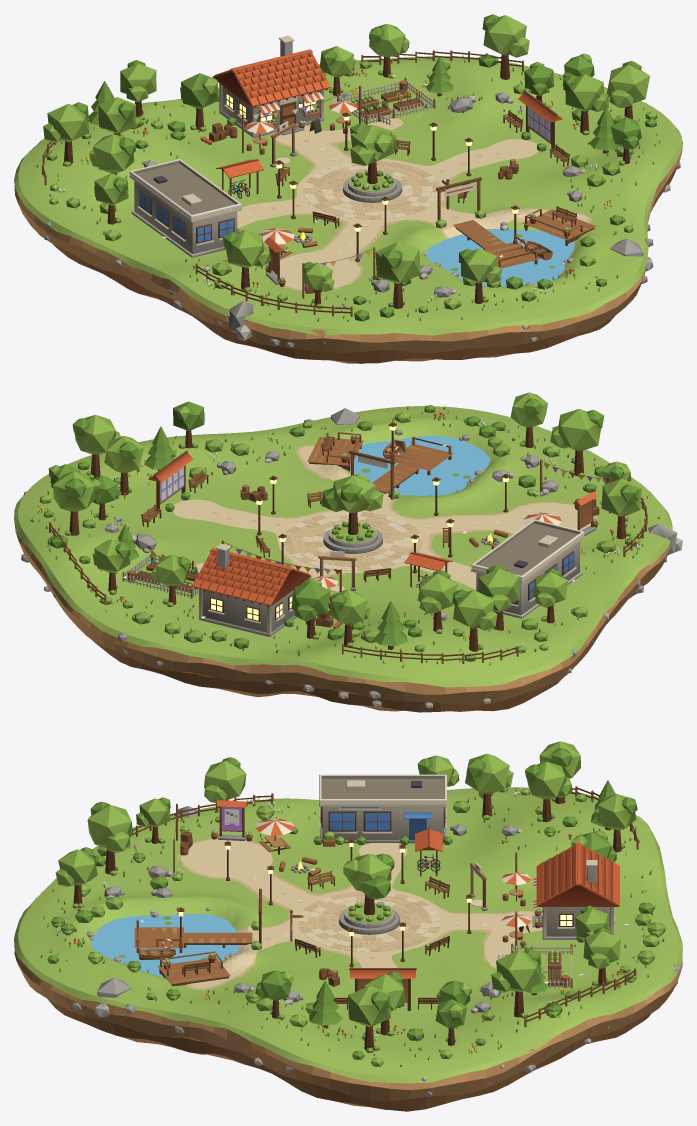
The model's file is island.glb.
3 renders of one model, top to bottom at view 1: azimuth 30°, elevation 25°; view 2: azimuth 150°, elevation 25°; view 3: azimuth 270°, elevation 25°, orthographic. The views are drawn at different scales.
Visible parts, largest first — view 1: walk_ground, island_base, walk_path, lm_gallery, lm_studio, deco_bushes, deco_grass_lip, deco_paving, water_pond, block_planter, block_garden, block_tree_05 (+34 smaller); view 2: walk_ground, island_base, walk_path, lm_studio, deco_bushes, lm_gallery, deco_grass_lip, deco_paving, water_pond, block_planter, block_tree_21, block_tree_14 (+30 smaller); view 3: walk_ground, island_base, walk_path, lm_gallery, lm_studio, deco_bushes, deco_grass_lip, deco_paving, water_pond, block_planter, block_tree_21, block_tree_05 (+32 smaller).
Part boxes in pixels (x1=…): walk_ground: x1=18, y1=56, x2=678, y2=329; island_base: x1=14, y1=140, x2=682, y2=363; walk_path: x1=237, y1=118, x2=587, y2=289; lm_gallery: x1=129, y1=159, x2=242, y2=257; lm_studio: x1=213, y1=35, x2=330, y2=137; deco_bushes: x1=46, y1=54, x2=657, y2=321; deco_grass_lip: x1=14, y1=121, x2=682, y2=335; deco_paving: x1=303, y1=161, x2=441, y2=219; water_pond: x1=426, y1=229, x2=574, y2=286; block_planter: x1=342, y1=123, x2=402, y2=202; block_garden: x1=337, y1=77, x2=435, y2=125; block_tree_05: x1=482, y1=14, x2=529, y2=79; walk_ground: x1=18, y1=406, x2=668, y2=680; island_base: x1=14, y1=508, x2=670, y2=712; walk_path: x1=173, y1=446, x2=594, y2=589; lm_studio: x1=192, y1=543, x2=310, y2=637; deco_bushes: x1=39, y1=405, x2=640, y2=661; lm_gallery: x1=470, y1=519, x2=584, y2=618; deco_grass_lip: x1=14, y1=430, x2=672, y2=687; deco_paving: x1=283, y1=511, x2=422, y2=570; water_pond: x1=350, y1=435, x2=490, y2=496; block_planter: x1=322, y1=474, x2=383, y2=553; block_tree_21: x1=550, y1=409, x2=604, y2=477; block_tree_14: x1=452, y1=589, x2=497, y2=651; walk_ground: x1=18, y1=787, x2=679, y2=1076; island_base: x1=14, y1=833, x2=682, y2=1111; walk_path: x1=181, y1=838, x2=542, y2=988; lm_gallery: x1=319, y1=774, x2=446, y2=846; lm_studio: x1=532, y1=843, x2=619, y2=939; deco_bushes: x1=47, y1=788, x2=665, y2=1066; deco_grass_lip: x1=14, y1=816, x2=682, y2=1083; deco_paving: x1=297, y1=891, x2=441, y2=951; water_pond: x1=91, y1=914, x2=239, y2=977; block_planter: x1=338, y1=853, x2=400, y2=934; block_tree_21: x1=87, y1=801, x2=133, y2=875; block_tree_05: x1=491, y1=948, x2=541, y2=1017.
Bounding box in the file's own units: 51.31 × 15.6 × 49.66.
